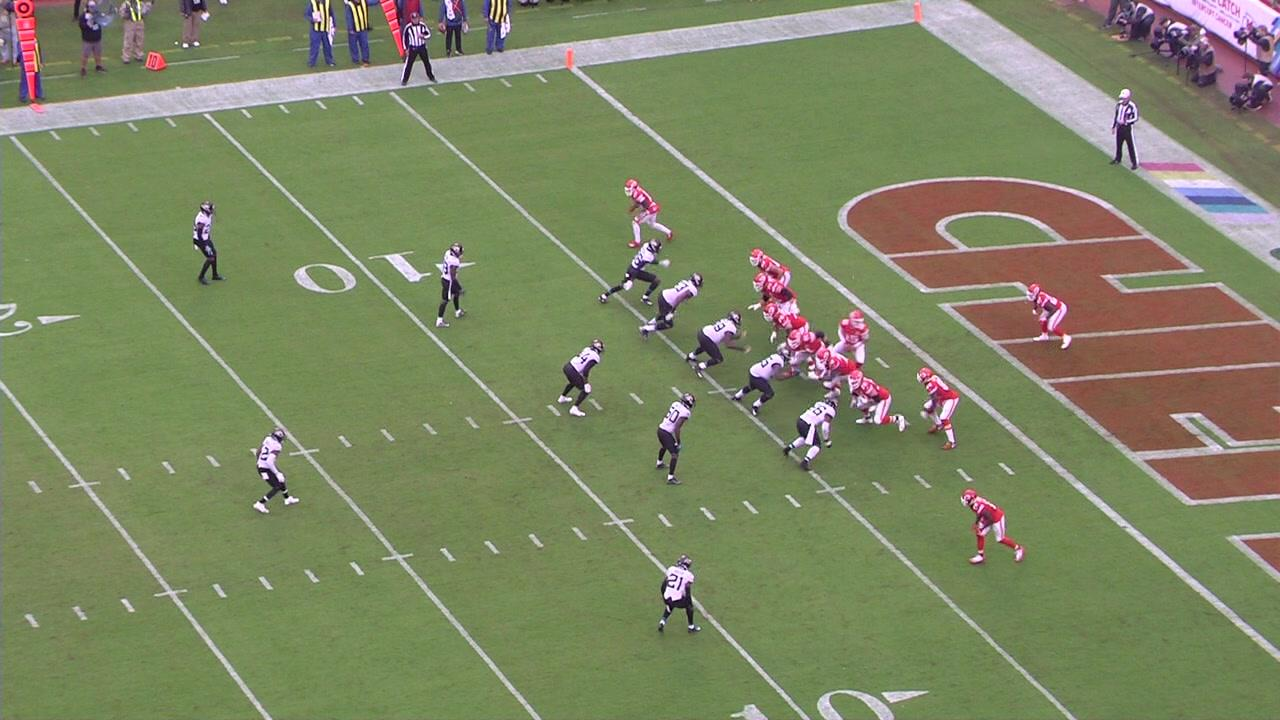defense: (729, 346, 799, 418), (598, 239, 673, 306), (781, 394, 841, 474), (250, 425, 302, 516), (683, 310, 750, 380), (638, 272, 704, 342), (555, 336, 607, 418), (653, 392, 697, 486), (654, 553, 702, 636), (433, 240, 469, 331), (190, 200, 227, 286)
oline: (848, 368, 907, 434), (783, 328, 830, 383), (814, 345, 860, 399), (747, 273, 796, 316), (761, 301, 810, 343)
qb: (829, 305, 875, 369)
ref: (395, 13, 441, 88), (1105, 86, 1142, 173)
skill: (959, 488, 1028, 569), (914, 366, 961, 452), (622, 178, 676, 249), (1024, 283, 1076, 350), (748, 247, 793, 289)
